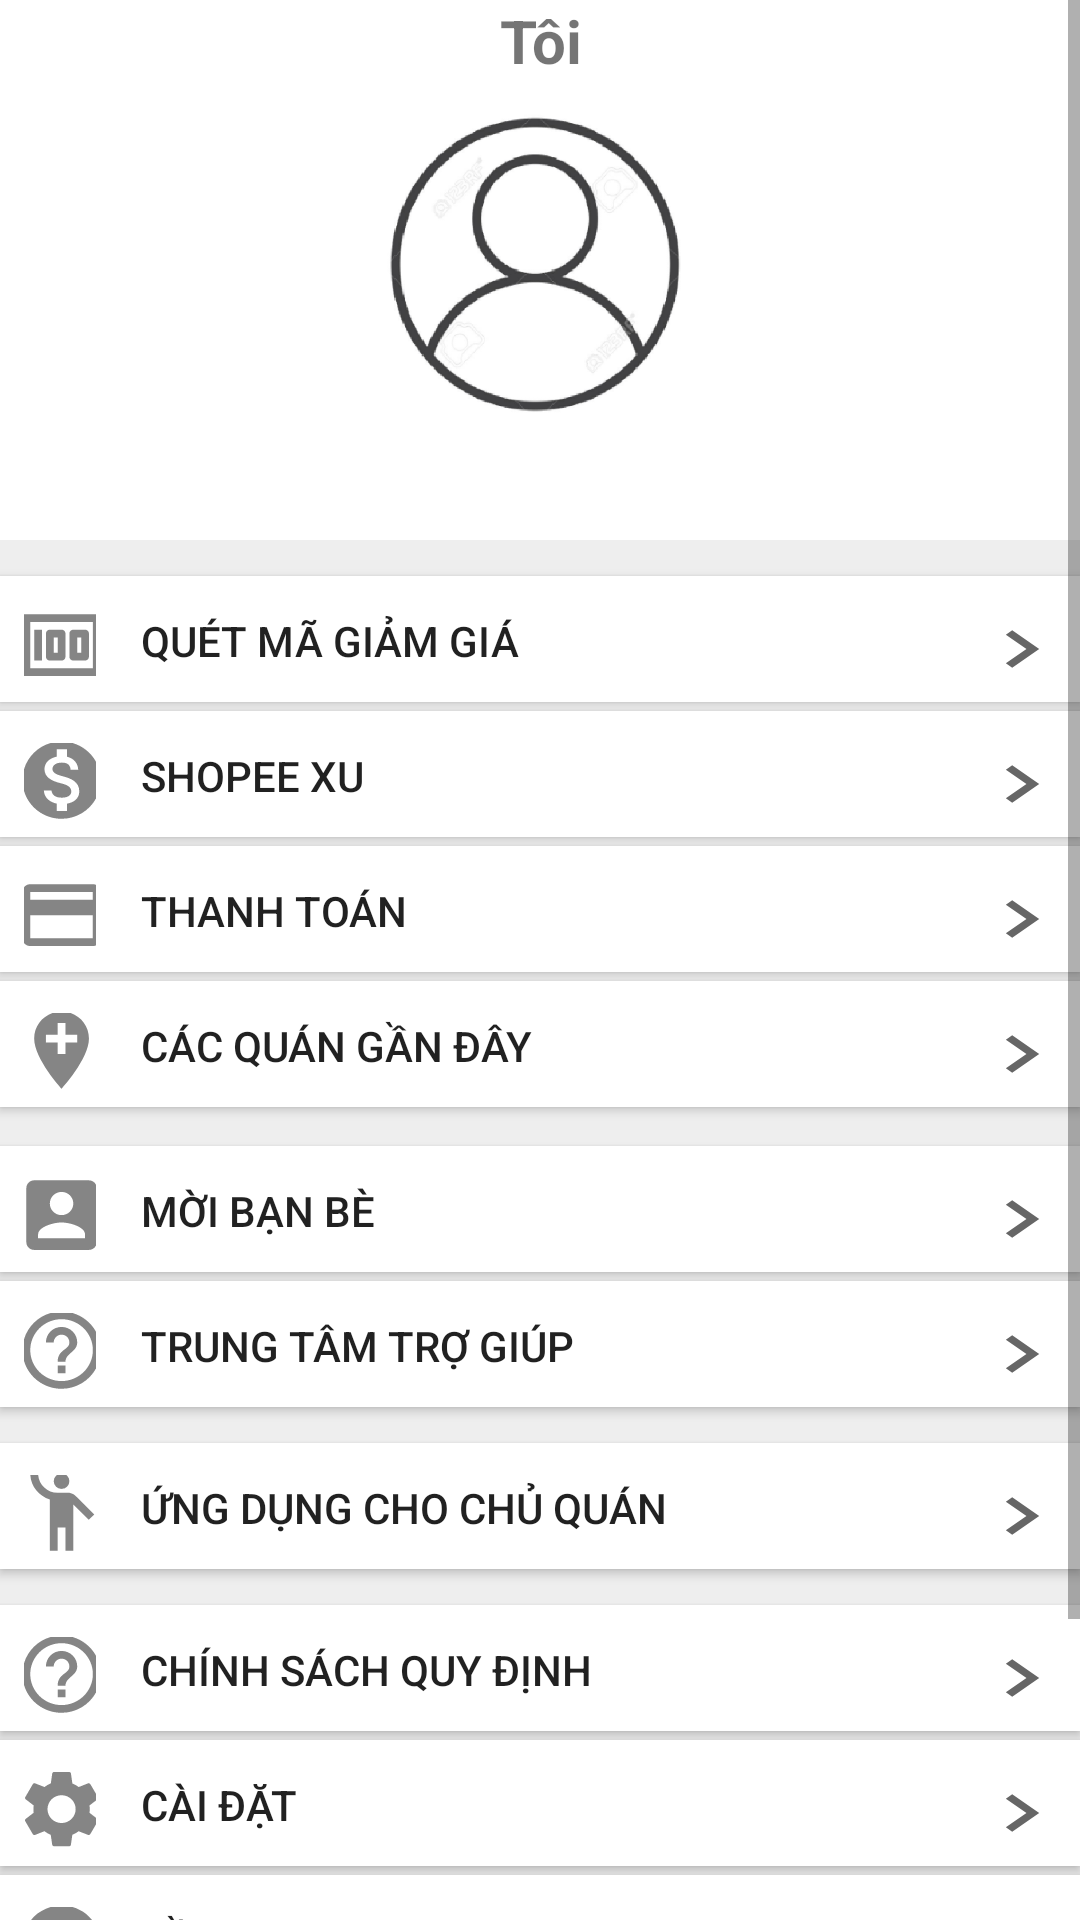

Named icons in this screenshot (1080*1920) and their centers, (x,y):
avt: (535,265)
